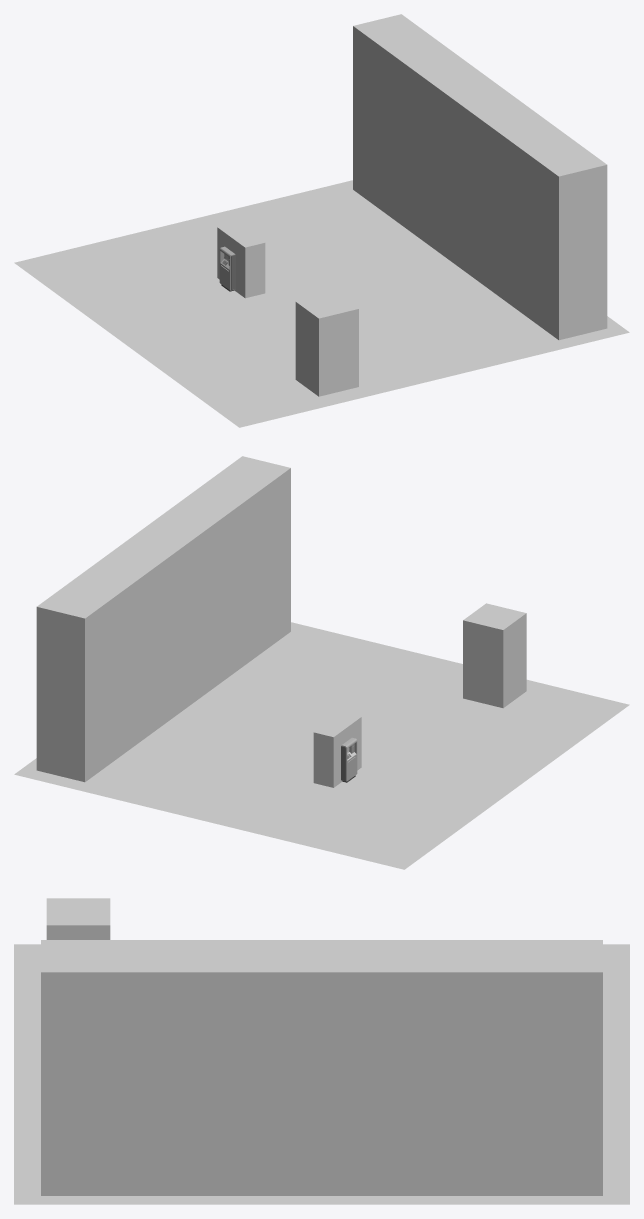
File: HorseBetting.fbx
The picture shows the model from 3 angles, top to bottom: view 1: azimuth 30°, elevation 25°; view 2: azimuth 150°, elevation 25°; view 3: azimuth 270°, elevation 25°; orthographic projection. The views are drawn at different scales.
Visible parts, largest first — view 1: Plane, Cube, Cube.001, Cube.002, Cube.003; view 2: Plane, Cube, Cube.001, Cube.002, Cube.003; view 3: Cube, Plane, Cube.001.
Boxes of the visible parts, x1,y1,x2,y2 form: Plane: [14, 180, 629, 427]; Cube: [353, 14, 607, 340]; Cube.001: [295, 292, 358, 396]; Cube.002: [217, 222, 265, 298]; Cube.003: [219, 246, 235, 291]; Plane: [14, 622, 629, 869]; Cube: [36, 456, 290, 782]; Cube.001: [463, 603, 526, 708]; Cube.002: [313, 712, 361, 787]; Cube.003: [341, 737, 357, 782]; Cube: [41, 940, 602, 1195]; Plane: [14, 944, 629, 1204]; Cube.001: [46, 898, 110, 939].
Size of the model in its own units: 1611 by 651 by 1611.
1 material, 1 textured.
